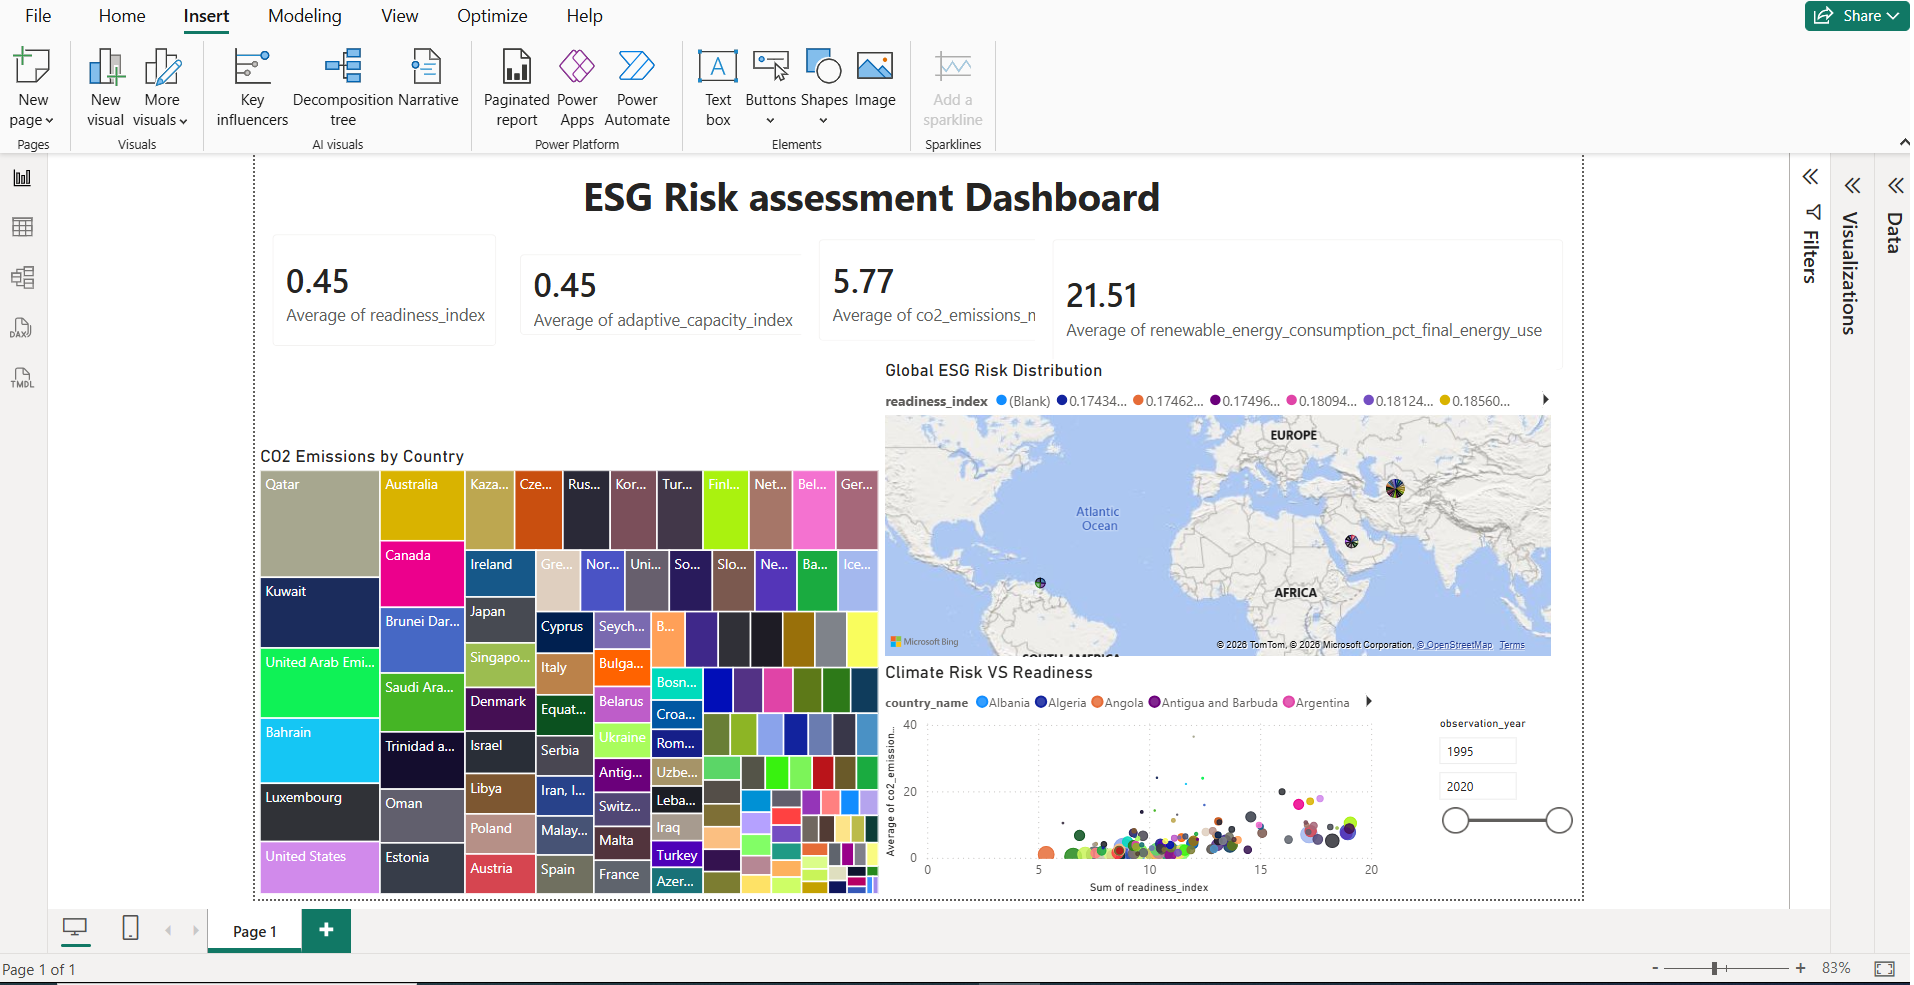

Layout of this report page (visuals, bound fields, positions):
{"tool":"powerbi","page":{"name":"Page 1","canvas":[1280,720],"ordinal":0},"visuals":[{"type":"cardVisual","fields":{"Data":["Avg(energy_economics_curated.readiness_index)"]},"box":[0,61.5,250.9,142.4],"z":0},{"type":"cardVisual","fields":{"Data":["Avg(energy_economics_curated.adaptive_capacity_index)"]},"box":[238.9,80.8,318.5,112.2],"z":1},{"type":"cardVisual","fields":{"Data":["Avg(energy_economics_curated.co2_emissions_metric_tonnes_per_capita)"]},"box":[527.2,66.4,279.9,132.7],"z":2},{"type":"cardVisual","fields":{"Data":["Avg(energy_economics_curated.renewable_energy_consumption_pct_final_energy_use)"]},"box":[752.8,66.4,527.2,160.5],"z":3},{"type":"treemap","title":"CO2 Emissions by Country","fields":{"Group":["energy_economics_curated.country_name"],"Values":["Avg(energy_economics_curated.co2_emissions_metric_tonnes_per_capita)"]},"box":[0,282.3,606.8,437.9],"z":4},{"type":"map","title":"Global ESG Risk Distribution","fields":{"Category":["energy_economics_curated.country_name"],"Size":["Avg(energy_economics_curated.co2_emissions_metric_tonnes_per_capita)"],"Series":["energy_economics_curated.readiness_index"]},"box":[603.2,199.1,652.7,292],"z":5},{"type":"scatterChart","title":"Climate Risk VS Readiness","fields":{"X":["Sum(energy_economics_curated.readiness_index)"],"Y":["Avg(energy_economics_curated.co2_emissions_metric_tonnes_per_capita)"],"Size":["Sum(energy_economics_curated.renewable_energy_consumption_pct_final_energy_use)"],"Series":["energy_economics_curated.country_name"]},"box":[603.2,491,486.2,229.2],"z":6},{"type":"slicer","fields":{"Values":["energy_economics_curated.observation_year"]},"box":[1130.7,539.3,149.6,181.1],"z":7},{"type":"textbox","box":[311.3,10.9,618.9,70],"z":8}]}

Visuals, with their boxes on the page's 1280x720 design canvas (x1, y1, x2, y2). These are canvas units, not pixel positions in the 1914x985 screenshot, which may show the page scaled, cropped or inside an application window:
cardVisual - Avg(energy_economics_curated.readiness_index): {"left": 0, "top": 62, "right": 251, "bottom": 204}
cardVisual - Avg(energy_economics_curated.adaptive_capacity_index): {"left": 239, "top": 81, "right": 557, "bottom": 193}
cardVisual - Avg(energy_economics_curated.co2_emissions_metric_tonnes_per_capita): {"left": 527, "top": 66, "right": 807, "bottom": 199}
cardVisual - Avg(energy_economics_curated.renewable_energy_consumption_pct_final_energy_use): {"left": 753, "top": 66, "right": 1280, "bottom": 227}
"CO2 Emissions by Country" treemap: {"left": 0, "top": 282, "right": 607, "bottom": 720}
"Global ESG Risk Distribution" map: {"left": 603, "top": 199, "right": 1256, "bottom": 491}
"Climate Risk VS Readiness" scatterChart: {"left": 603, "top": 491, "right": 1089, "bottom": 720}
slicer - energy_economics_curated.observation_year: {"left": 1131, "top": 539, "right": 1280, "bottom": 720}
textbox: {"left": 311, "top": 11, "right": 930, "bottom": 81}
